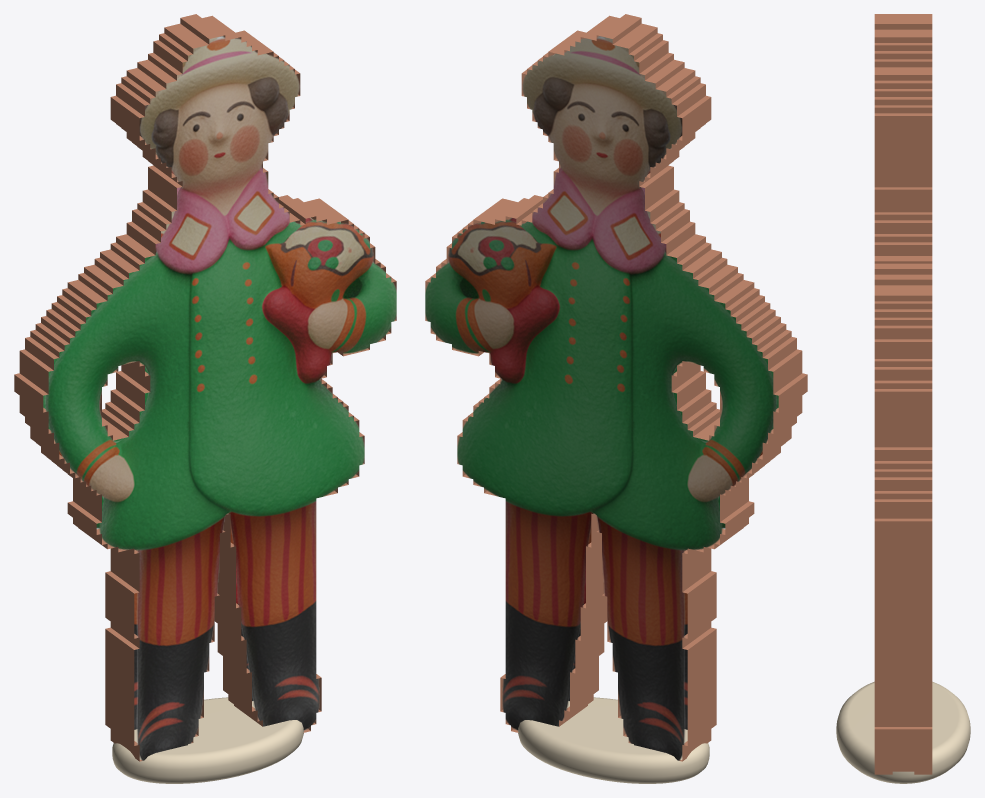
Rendered from ar-man.glb.
3 renders of one model, left to right at view 1: azimuth 30°, elevation 25°; view 2: azimuth 150°, elevation 25°; view 3: azimuth 270°, elevation 25°, orthographic.
Visible parts, largest first — view 1: ToyArtworkSilhouette, SmallRoundedDisplayFoot; view 2: ToyArtworkSilhouette, SmallRoundedDisplayFoot; view 3: ToyArtworkSilhouette, SmallRoundedDisplayFoot.
Boxes of the visible parts, x1=… form: ToyArtworkSilhouette: x1=14, y1=14, x2=396, y2=761; SmallRoundedDisplayFoot: x1=112, y1=697, x2=303, y2=783; ToyArtworkSilhouette: x1=425, y1=14, x2=807, y2=761; SmallRoundedDisplayFoot: x1=518, y1=697, x2=709, y2=783; ToyArtworkSilhouette: x1=874, y1=14, x2=932, y2=774; SmallRoundedDisplayFoot: x1=836, y1=681, x2=970, y2=783.
Size of the model in its own units: 0.1024 by 0.202 by 0.034.
3 materials, 1 textured.
